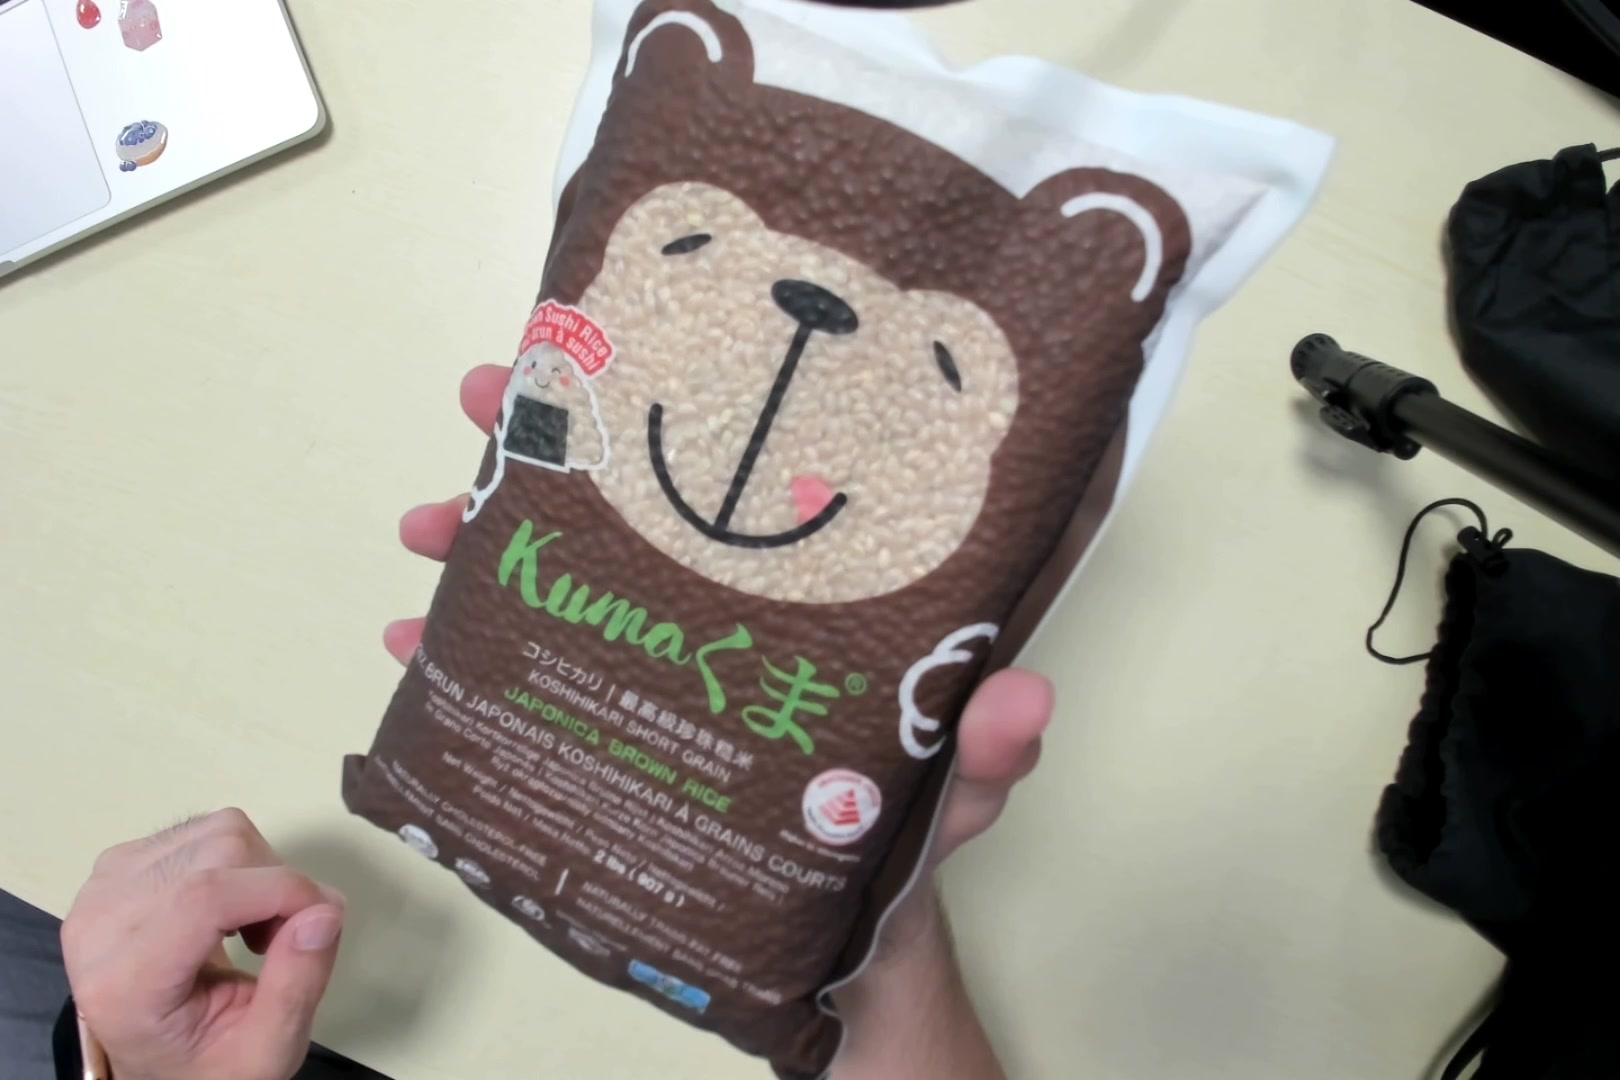Rice(BrownOthers)_500-599g_NonHalal_Healthy: (366, 8, 1285, 1064)
